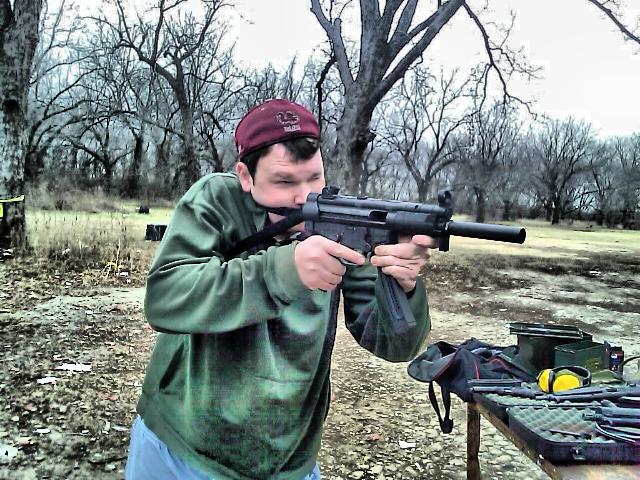pistol: (302, 184, 524, 278)
